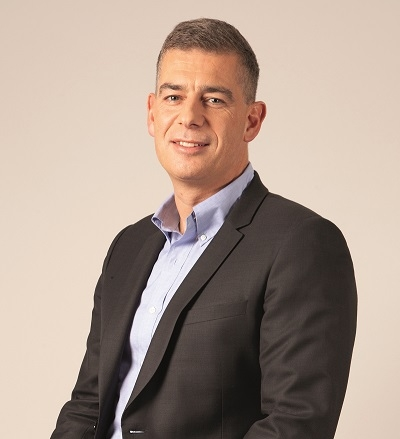without_mask: (159, 77, 240, 162)
